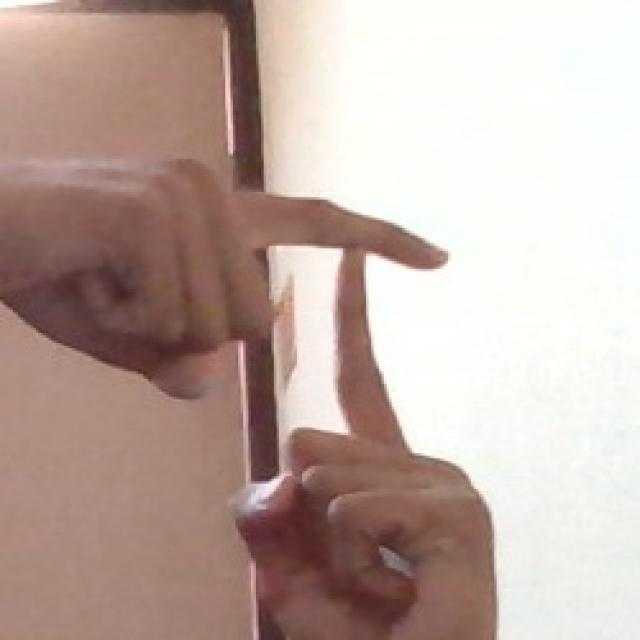Alphabet-T: (38, 136, 504, 640)
